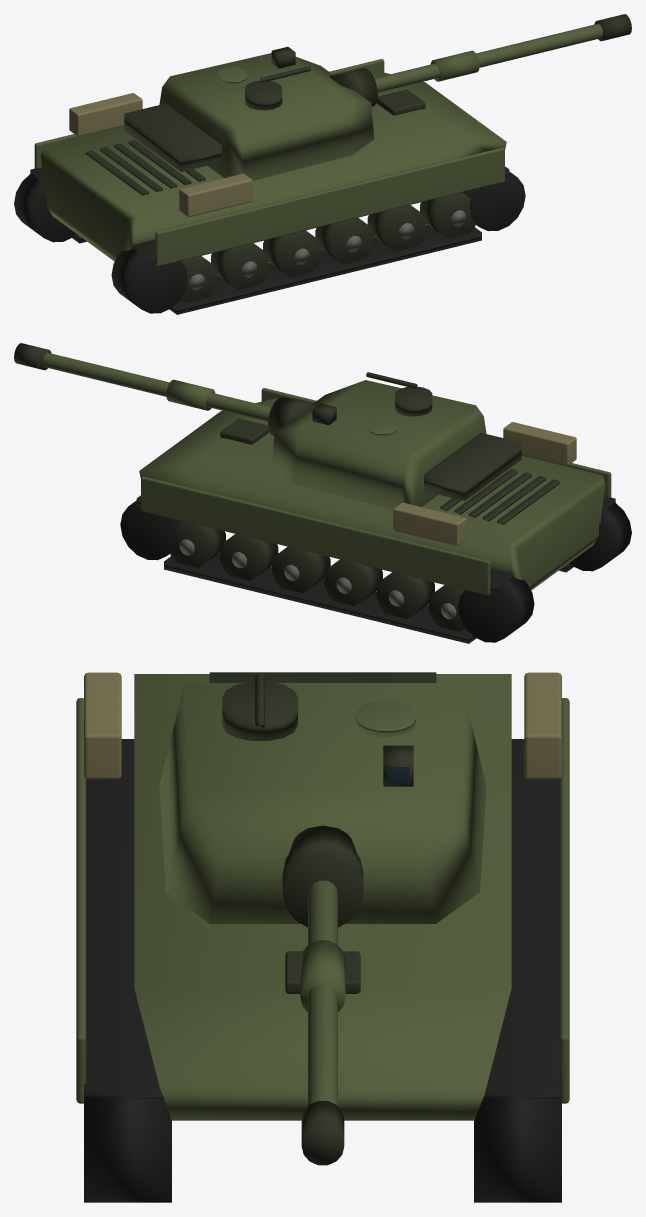
File: tank.glb
The picture shows the model from 3 angles, top to bottom: view 1: azimuth 30°, elevation 25°; view 2: azimuth 150°, elevation 25°; view 3: azimuth 270°, elevation 25°; orthographic projection. The views are drawn at different scales.
Parts seen in each view (by area): view 1: body, turret; view 2: body, turret; view 3: body, turret.
Part boxes in pixels (x1=…): body: x1=14, y1=59, x2=525, y2=314; turret: x1=124, y1=14, x2=631, y2=180; body: x1=120, y1=388, x2=631, y2=643; turret: x1=14, y1=343, x2=521, y2=509; body: x1=76, y1=672, x2=569, y2=1202; turret: x1=159, y1=672, x2=486, y2=1165.
Bounding box in the file's own units: 101 × 30.35 × 39.2.
